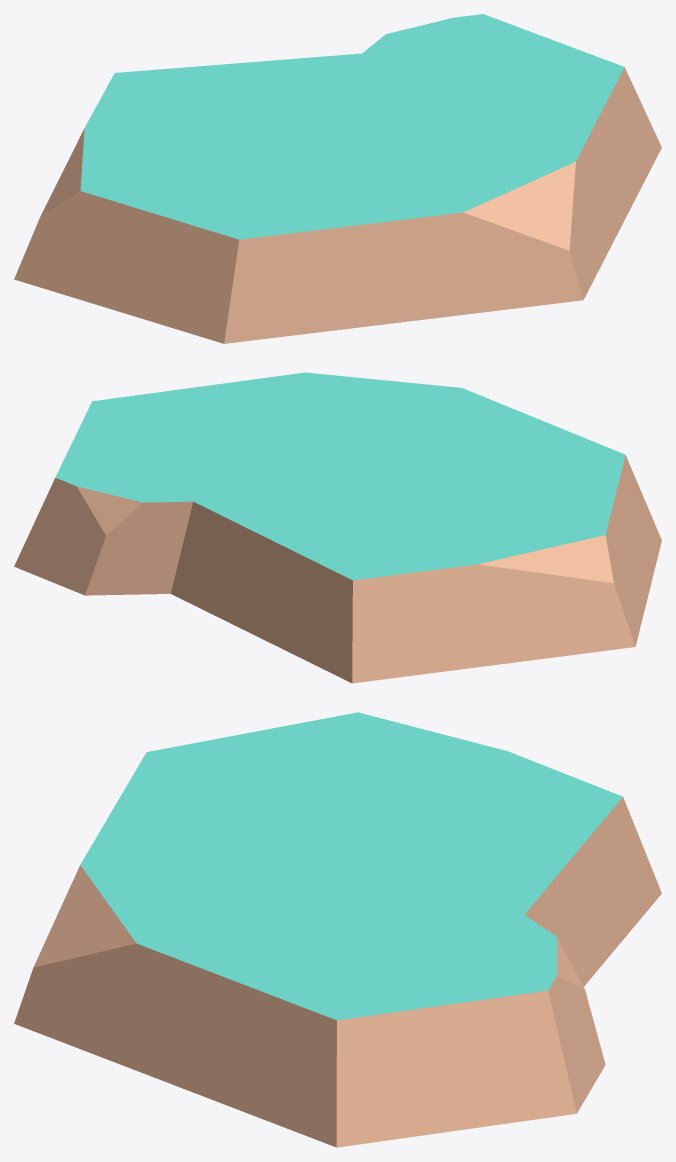
The model's file is rock_smallflatc.glb.
3 views of the same model, one above another, from view 1: azimuth 30°, elevation 25°; view 2: azimuth 150°, elevation 25°; view 3: azimuth 270°, elevation 25° (orthographic). The views are drawn at different scales.
Visible parts, largest first — view 1: rock_smallFlatC; view 2: rock_smallFlatC; view 3: rock_smallFlatC.
Boxes of the visible parts, <box> form: rock_smallFlatC: <box>14,14,661,343</box>; rock_smallFlatC: <box>14,372,661,683</box>; rock_smallFlatC: <box>14,712,661,1147</box>.
Size of the model in its own units: 0.4704 by 0.0649 by 0.3603.
